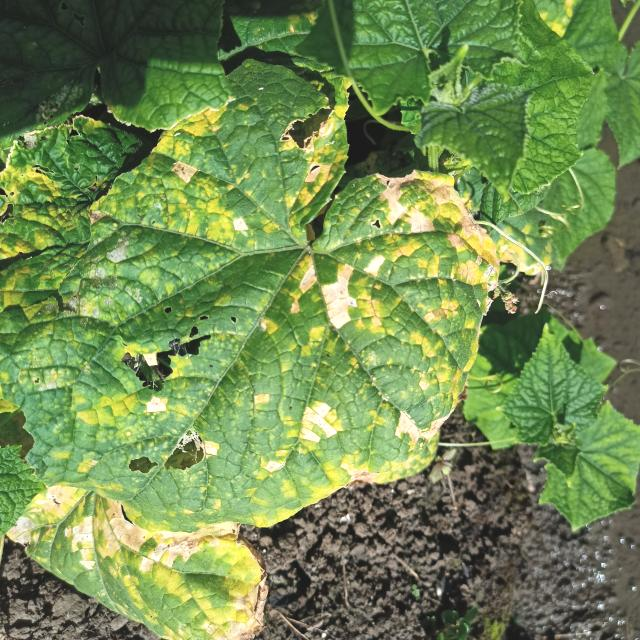disease_cucumber: (19, 83, 500, 510), (13, 466, 274, 633)
